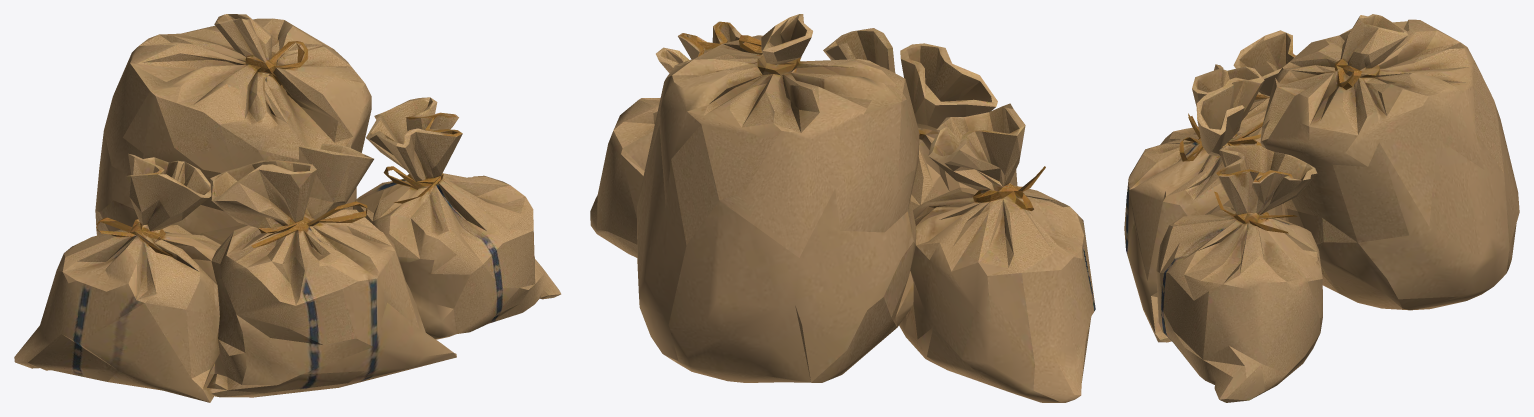
Rendered from sacks-pile.hq.glb.
3 renders of one model, left to right at view 1: azimuth 30°, elevation 25°; view 2: azimuth 150°, elevation 25°; view 3: azimuth 270°, elevation 25°, orthographic. The views are drawn at different scales.
Parts seen in each view (by area): view 1: output_unwrapped; view 2: output_unwrapped; view 3: output_unwrapped.
Part boxes in pixels (x1=…): output_unwrapped: x1=14, y1=14, x2=561, y2=402; output_unwrapped: x1=590, y1=14, x2=1095, y2=402; output_unwrapped: x1=1124, y1=14, x2=1519, y2=402.
Size of the model in its own units: 1.9 by 1.09 by 1.41.
Materials: 1 (1 with a texture image).
